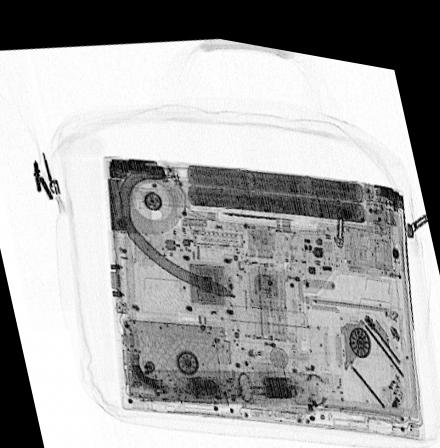Baton: (126, 360, 327, 394)
